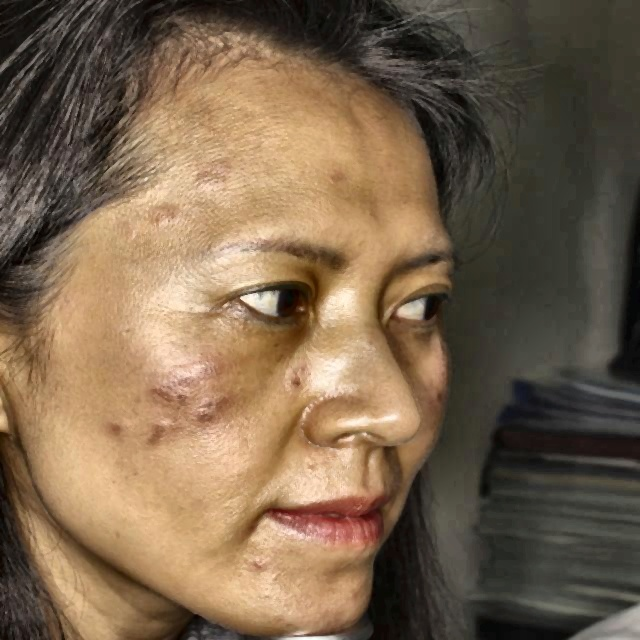pustule: (243, 552, 284, 584), (187, 166, 220, 201), (421, 377, 445, 414), (101, 414, 130, 442), (194, 392, 220, 422), (136, 420, 169, 441), (170, 384, 192, 405), (152, 377, 170, 401)
